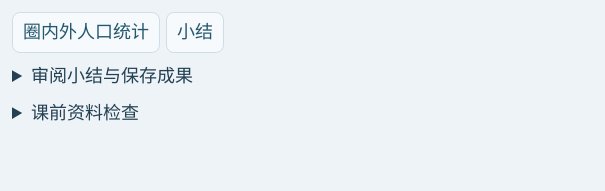
Test: requires real polygon geometry and never substitutes brush strokes
Click the button "圈内外人口统计" at (86, 32), box [12,12,160,53]
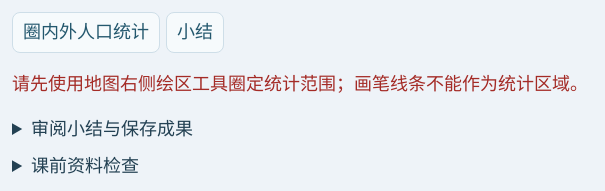
Expected: the message shows "绘区工具", [12,74,588,94]
